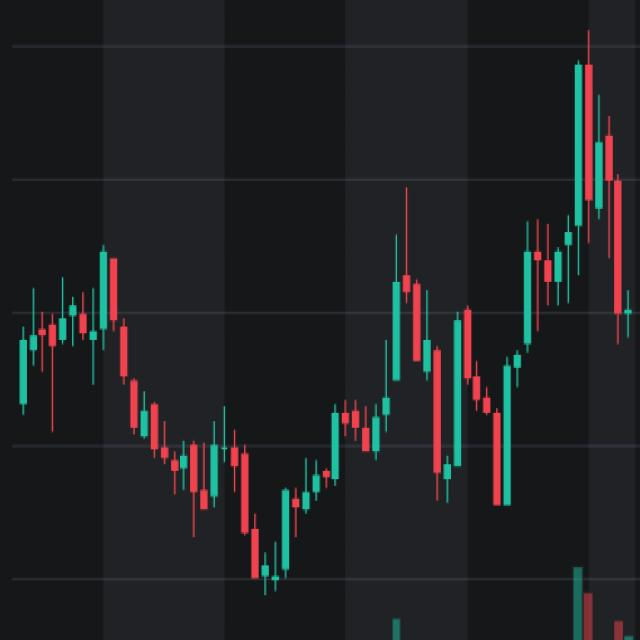Resistance-breakout: (376, 37, 626, 512)
